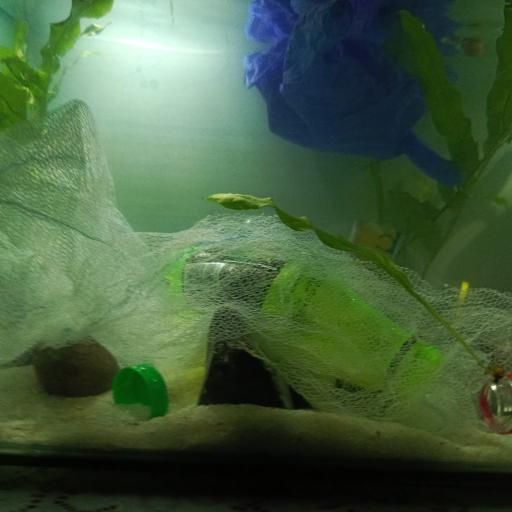bottle_cap: (110, 363, 168, 421)
glove: (241, 43, 462, 186)
net: (1, 102, 512, 434)
plastic_bottle: (163, 243, 441, 401), (323, 216, 475, 308), (476, 362, 512, 438)
